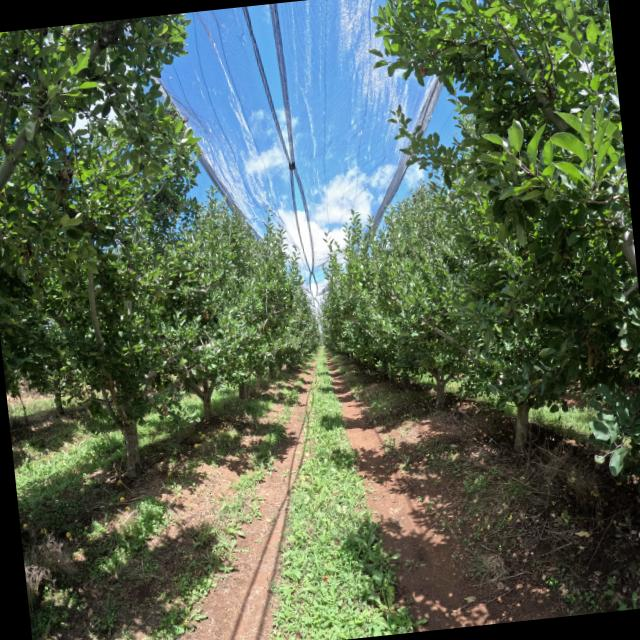-FireBlight-: (51, 168, 73, 207), (585, 330, 604, 371)
